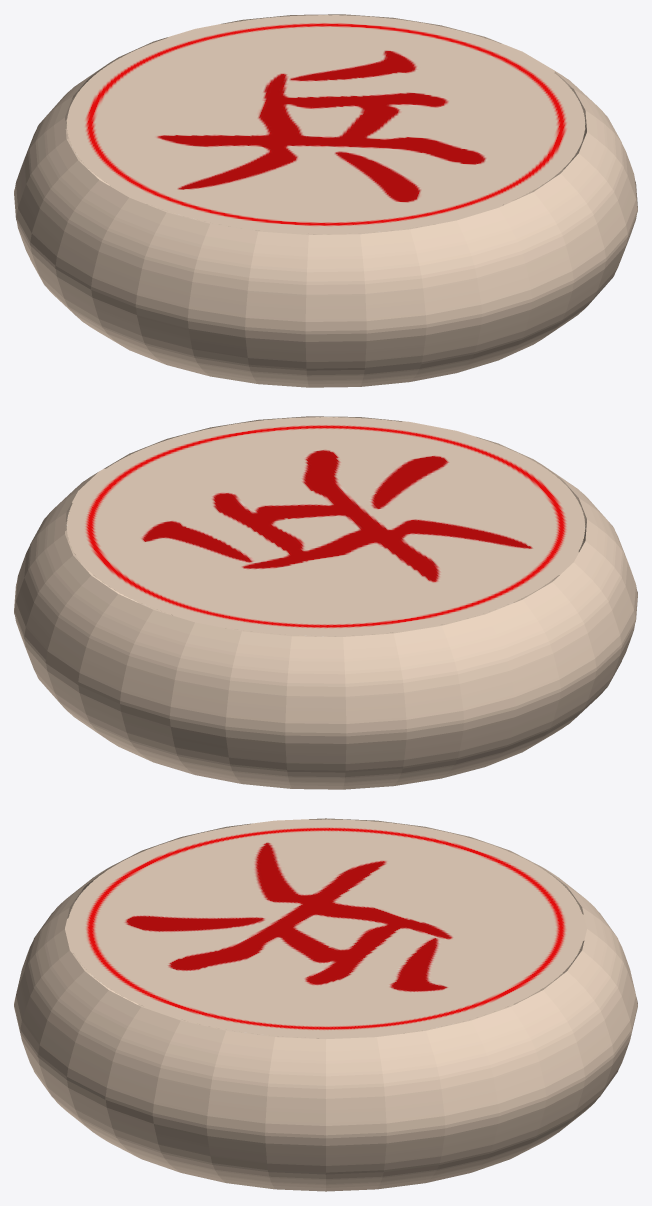
Rendered from red_pawn.fbx.
3 views of the same model, one above another, from view 1: azimuth 30°, elevation 25°; view 2: azimuth 150°, elevation 25°; view 3: azimuth 270°, elevation 25° (orthographic).
Parts seen in each view (by area): view 1: Red Pawn; view 2: Red Pawn; view 3: Red Pawn.
Boxes of the visible parts, x1,y1,x2,y2 form: Red Pawn: (14,14,637,387); Red Pawn: (14,416,637,789); Red Pawn: (14,818,637,1191).
Bounding box in the file's own units: 245 × 66.11 × 245.
Materials: 2 (1 with a texture image).
